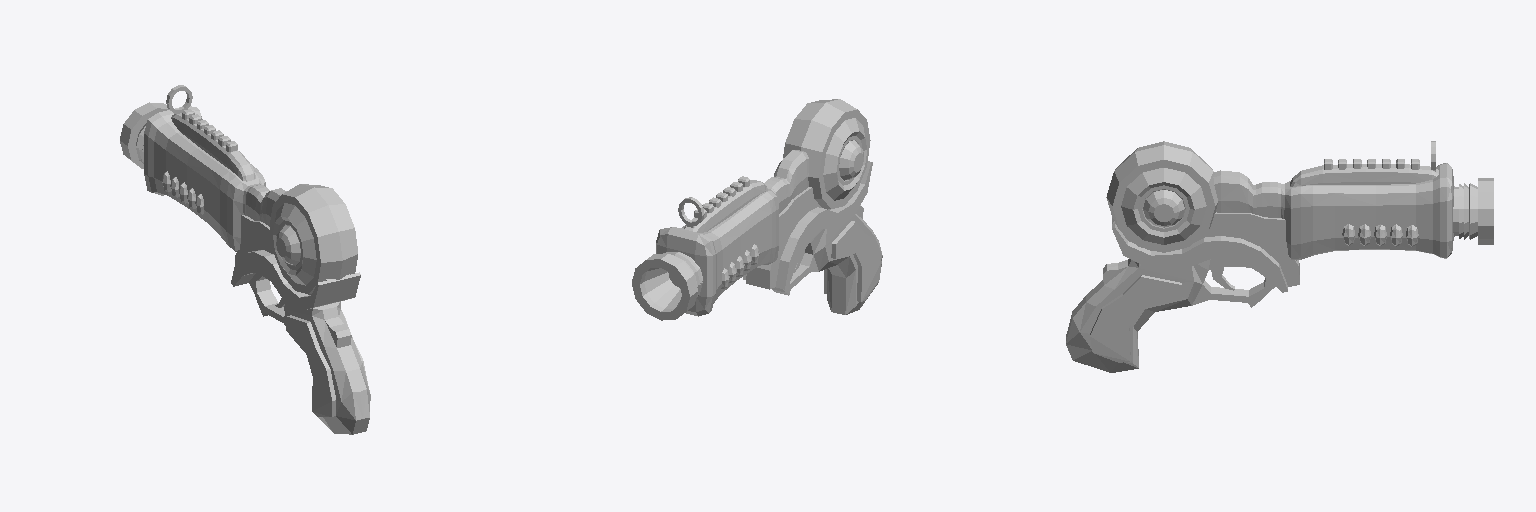
Rendered from Ray Gun.obj.
3 renders of one model, left to right at view 1: azimuth 30°, elevation 25°; view 2: azimuth 150°, elevation 25°; view 3: azimuth 270°, elevation 25°, orthographic.
Parts seen in each view (by area): view 1: RayGun_Muzzle.005; view 2: RayGun_Muzzle.005; view 3: RayGun_Muzzle.005.
Part boxes in pixels (x1,y1,x2,y2): RayGun_Muzzle.005: (120,85,370,434); RayGun_Muzzle.005: (632,99,882,320); RayGun_Muzzle.005: (1066,141,1493,372).
Size of the model in its own units: 0.5932 by 1.97 by 3.36.